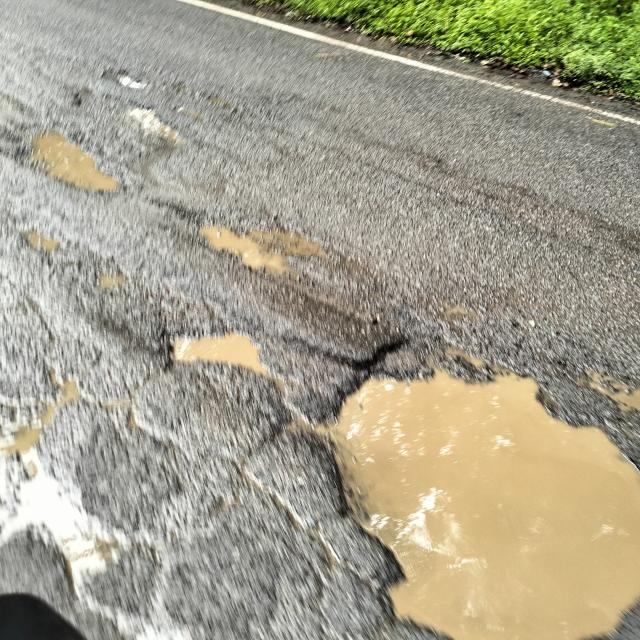pothole: (314, 334, 640, 640), (5, 342, 129, 588), (6, 62, 182, 213), (144, 302, 305, 424), (199, 190, 339, 308)
